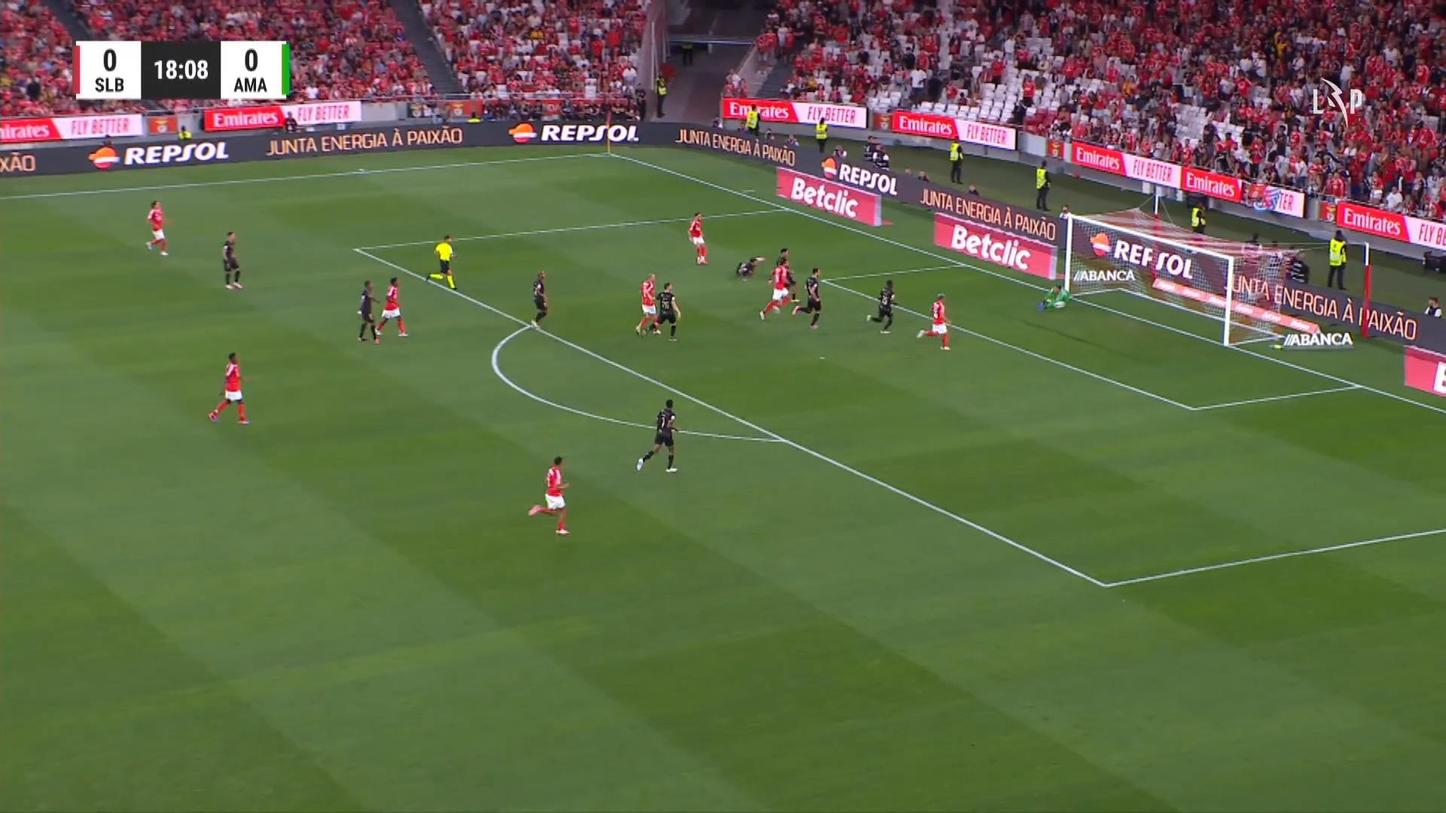ball: (1052, 298, 1064, 311)
goalkeeper: (1037, 283, 1069, 312)
player: (527, 455, 572, 535), (635, 398, 680, 473), (208, 351, 251, 425), (758, 257, 795, 321), (374, 276, 409, 339), (916, 292, 951, 350), (791, 266, 822, 329), (651, 282, 681, 341), (634, 273, 660, 336), (355, 279, 380, 343), (866, 279, 895, 334), (145, 199, 169, 257), (221, 230, 243, 289), (529, 269, 548, 329), (688, 211, 708, 265), (735, 254, 766, 281)
referee: (433, 233, 457, 289)
